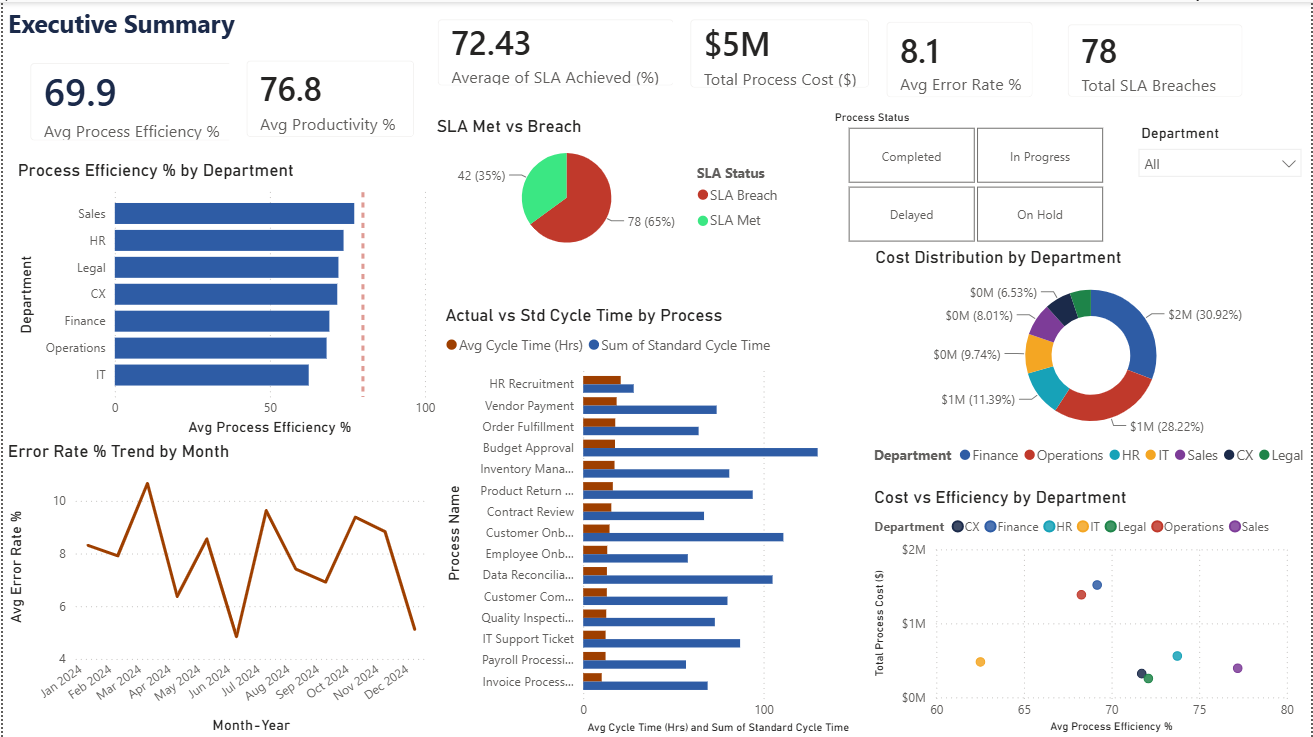

Layout of this report page (visuals, bound fields, positions):
{"tool":"powerbi","page":{"name":"Executive Summary","canvas":[1280,720],"ordinal":0},"visuals":[{"type":"cardVisual","fields":{"Data":["process_data.Avg Process Efficiency %"]},"box":[9.4,43.2,234.7,110.6],"z":0},{"type":"cardVisual","fields":{"Data":["process_data.Avg Productivity %"]},"box":[221.2,40.5,198.3,109.3],"z":1000},{"type":"cardVisual","fields":{"Data":["Avg(process_data.SLA Achieved (%))"]},"box":[408.8,0,265.8,99.8],"z":2000},{"type":"cardVisual","fields":{"Data":["process_data.Total Process Cost ($)"]},"box":[655.7,0,209.1,101.2],"z":3000},{"type":"cardVisual","fields":{"Data":["process_data.Avg Error Rate %"]},"box":[848,2.7,177,108.4],"z":4000},{"type":"cardVisual","fields":{"Data":["process_data.Total SLA Breaches"]},"box":[1025,5.5,205.8,105.7],"z":5000},{"type":"clusteredBarChart","title":"Process Efficiency % by Department","fields":{"Category":["process_data.Department"],"Y":["process_data.Avg Process Efficiency %"]},"box":[9.4,153.8,418.2,275.2],"z":6000},{"type":"donutChart","title":"Cost Distribution by Department","fields":{"Category":["process_data.Department"],"Y":["process_data.Total Process Cost ($)"]},"box":[848.6,239.7,431.7,222.6],"z":7000},{"type":"pieChart","title":"SLA Met vs Breach","fields":{"Category":["process_data.SLA Status"],"Y":["process_data.Total Processes"]},"box":[419.4,111.3,352.2,141.8],"z":8000},{"type":"lineChart","title":"Error Rate % Trend by Month","fields":{"Category":["process_data.Month-Year"],"Y":["process_data.Avg Error Rate %"]},"box":[0,429,419.6,291.4],"z":9000},{"type":"clusteredBarChart","title":"Actual vs Std Cycle Time by Process","fields":{"Category":["process_data.Process Name"],"Y":["process_data.Avg Cycle Time (Hrs)","Sum(process_data.Standard Cycle Time)"]},"box":[428,295.9,419.4,424.3],"z":10000},{"type":"scatterChart","title":"Cost vs Efficiency by Department","fields":{"X":["process_data.Avg Process Efficiency %"],"Y":["process_data.Total Process Cost ($)"],"Series":["process_data.Department"]},"box":[847.4,474.5,420.7,245.8],"z":11000},{"type":"slicer","title":"Filter by Department","fields":{"Values":["process_data.Department"]},"box":[1100.5,114.9,179.8,69.7],"z":12000},{"type":"slicer","fields":{"Values":["process_data.Process Status"]},"box":[801,101.5,299.6,139.4],"z":13000},{"type":"textbox","box":[0,0,299.5,45.9],"z":13001}]}

Visuals, with their boxes in screenshot pixels (x1, y1, x2, y2), scaled from the page's 1280x720 canvas onto the 1313x737 screenshot:
cardVisual - process_data.Avg Process Efficiency %: [left=10, top=44, right=250, bottom=157]
cardVisual - process_data.Avg Productivity %: [left=227, top=41, right=430, bottom=153]
cardVisual - Avg(process_data.SLA Achieved (%)): [left=419, top=0, right=692, bottom=102]
cardVisual - process_data.Total Process Cost ($): [left=673, top=0, right=887, bottom=104]
cardVisual - process_data.Avg Error Rate %: [left=870, top=3, right=1051, bottom=114]
cardVisual - process_data.Total SLA Breaches: [left=1051, top=6, right=1263, bottom=114]
"Process Efficiency % by Department" clusteredBarChart: [left=10, top=157, right=439, bottom=439]
"Cost Distribution by Department" donutChart: [left=870, top=245, right=1312, bottom=473]
"SLA Met vs Breach" pieChart: [left=430, top=114, right=791, bottom=259]
"Error Rate % Trend by Month" lineChart: [left=0, top=439, right=430, bottom=736]
"Actual vs Std Cycle Time by Process" clusteredBarChart: [left=439, top=303, right=869, bottom=736]
"Cost vs Efficiency by Department" scatterChart: [left=869, top=486, right=1301, bottom=736]
"Filter by Department" slicer: [left=1129, top=118, right=1312, bottom=189]
slicer - process_data.Process Status: [left=822, top=104, right=1129, bottom=247]
textbox: [left=0, top=0, right=307, bottom=47]
